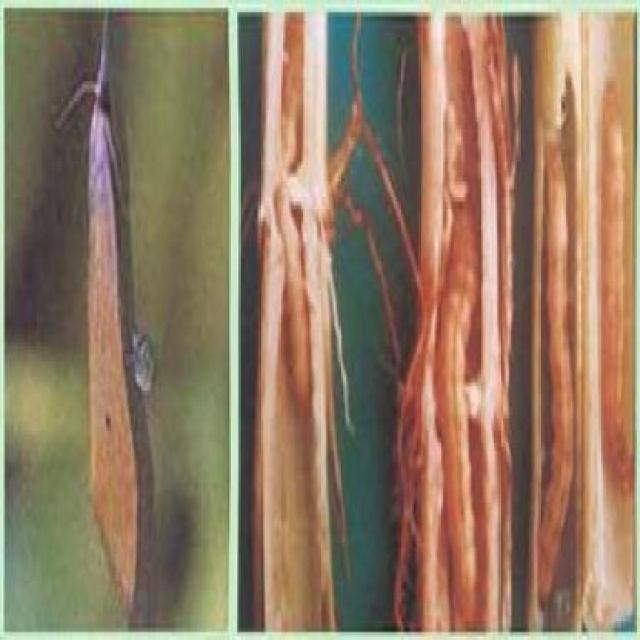stem-borer: (80, 8, 135, 626)
